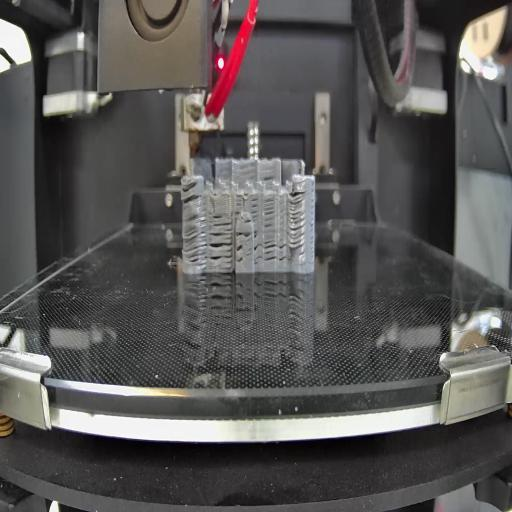cracks: (287, 189, 306, 256), (184, 214, 208, 262), (209, 232, 233, 262), (263, 239, 288, 263), (182, 182, 202, 204), (264, 199, 275, 229), (210, 214, 232, 228), (310, 184, 314, 250), (236, 230, 260, 240), (253, 244, 262, 265), (235, 195, 242, 215), (236, 246, 244, 262), (252, 200, 258, 220), (262, 176, 275, 180)
